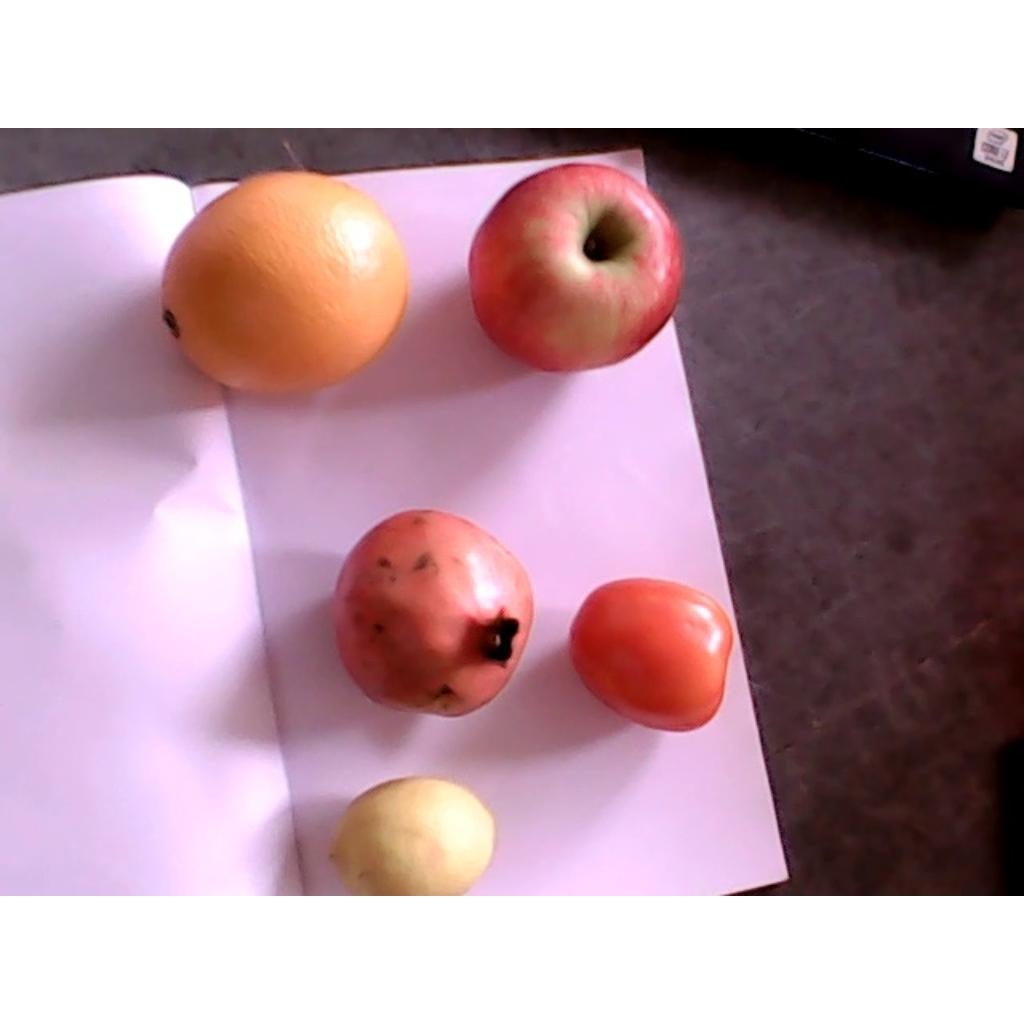apple: (468, 164, 686, 371)
lemon: (328, 778, 497, 894)
orange: (160, 170, 408, 393)
pomegranate: (334, 509, 535, 716)
tomato: (570, 579, 732, 730)
